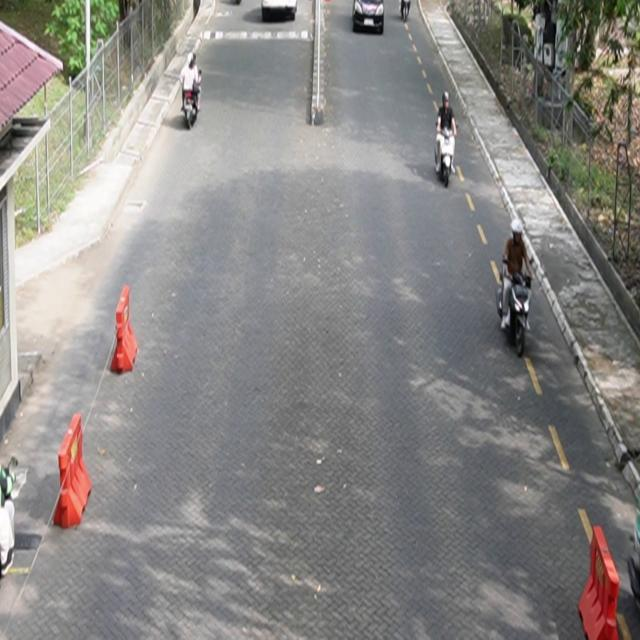car: (353, 1, 385, 35), (261, 1, 298, 22)
